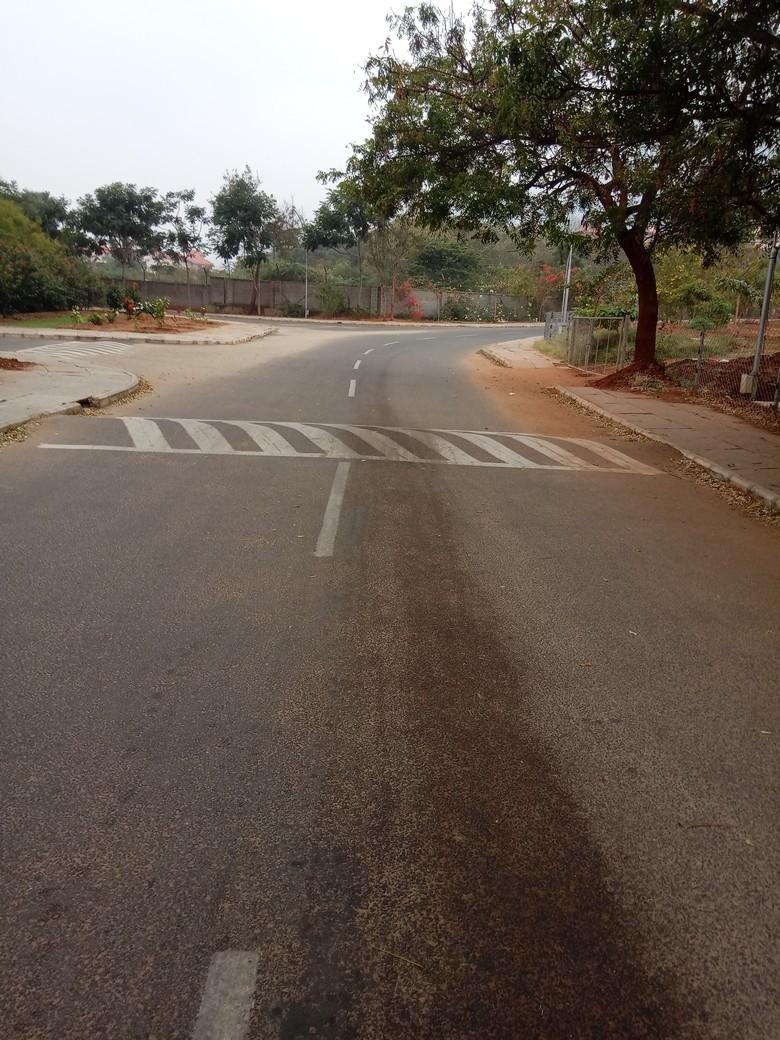speed-bump: (42, 414, 680, 472)
